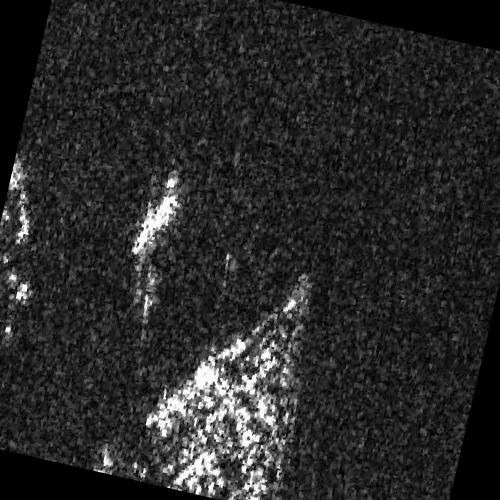ship: (129, 191, 179, 256)
